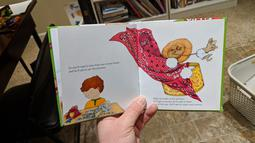text block: (64, 59, 126, 72), (151, 94, 204, 107)
